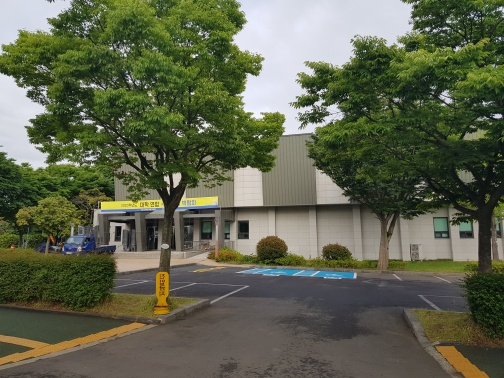Gym: (101, 129, 475, 260)
